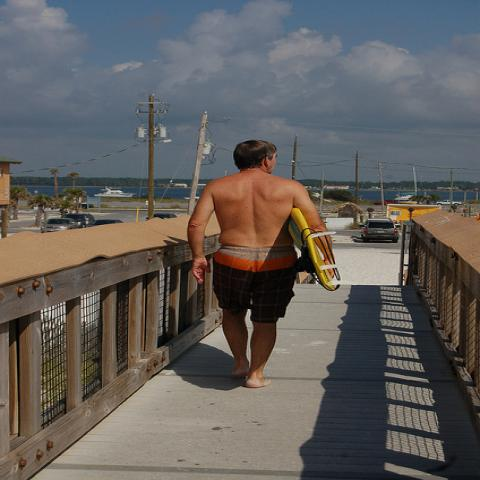car: (362, 217, 399, 243), (40, 216, 75, 231), (82, 213, 96, 225), (152, 213, 177, 219)
